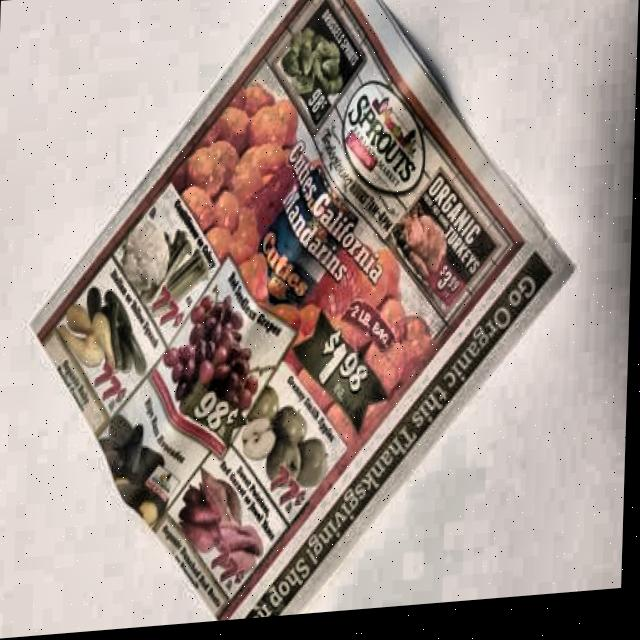paper: (19, 0, 582, 637)
